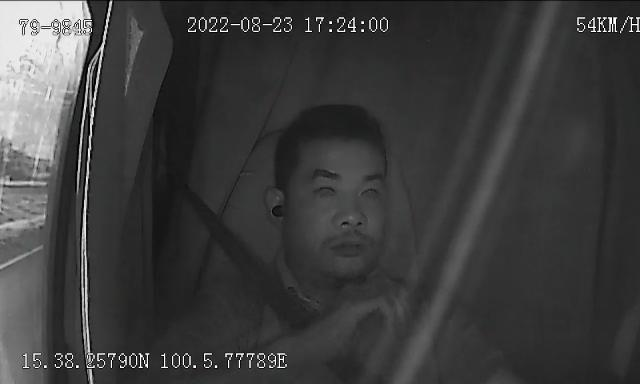SafeDriving: (354, 174, 388, 205), (310, 173, 342, 204)
Seatbelt: (202, 200, 382, 384)
